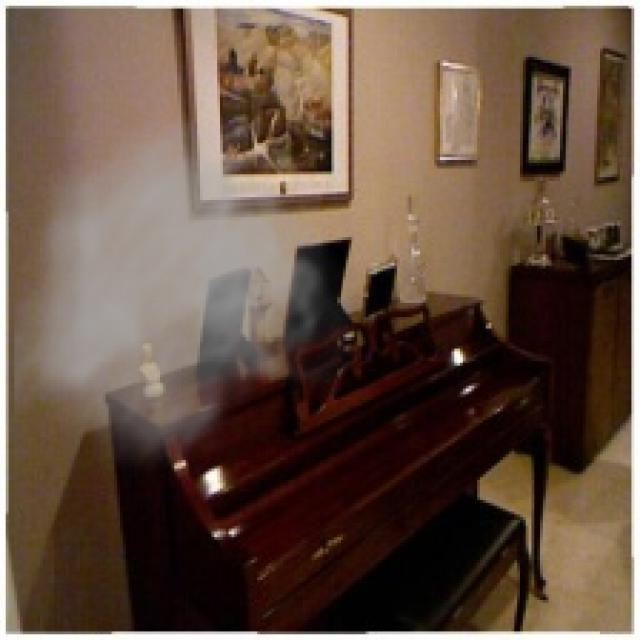smoke: (14, 100, 363, 480)
